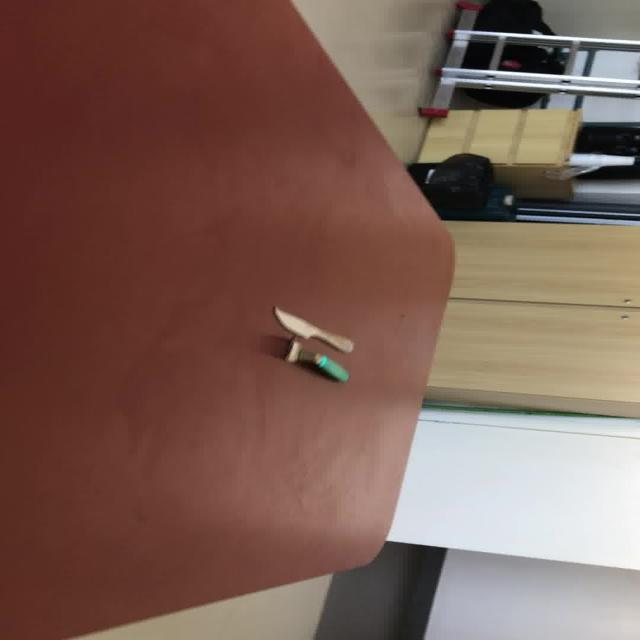knife fork: (271, 305, 354, 353)
